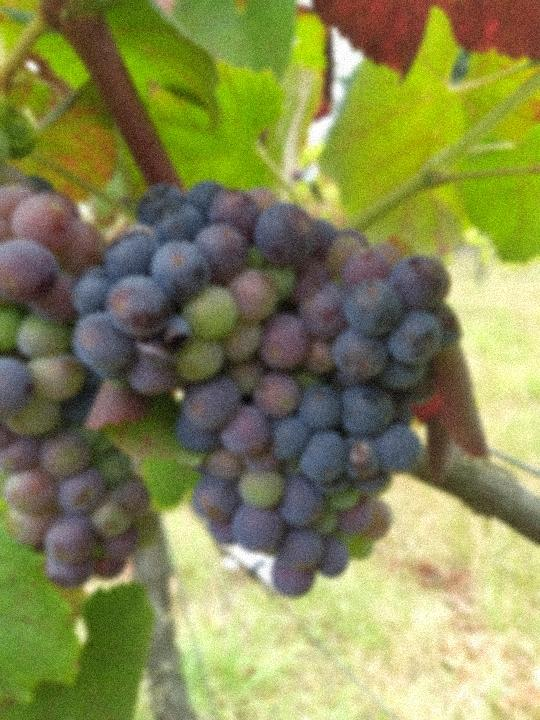grape: (66, 182, 465, 603)
